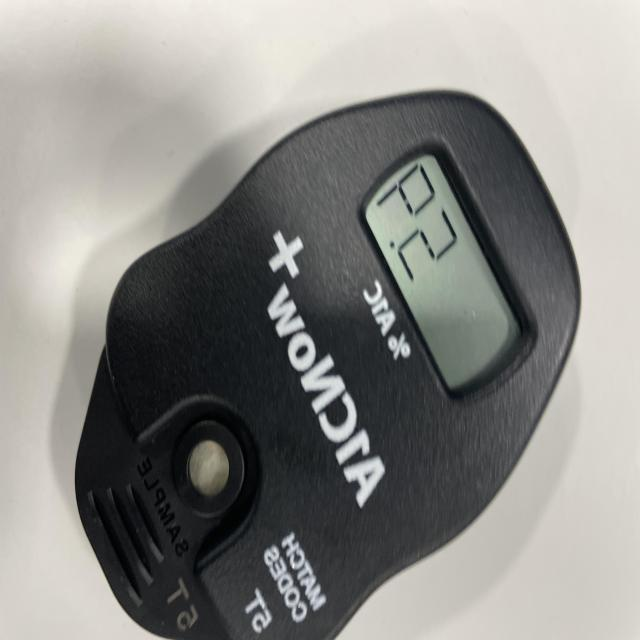hba1c: (74, 91, 581, 640)
